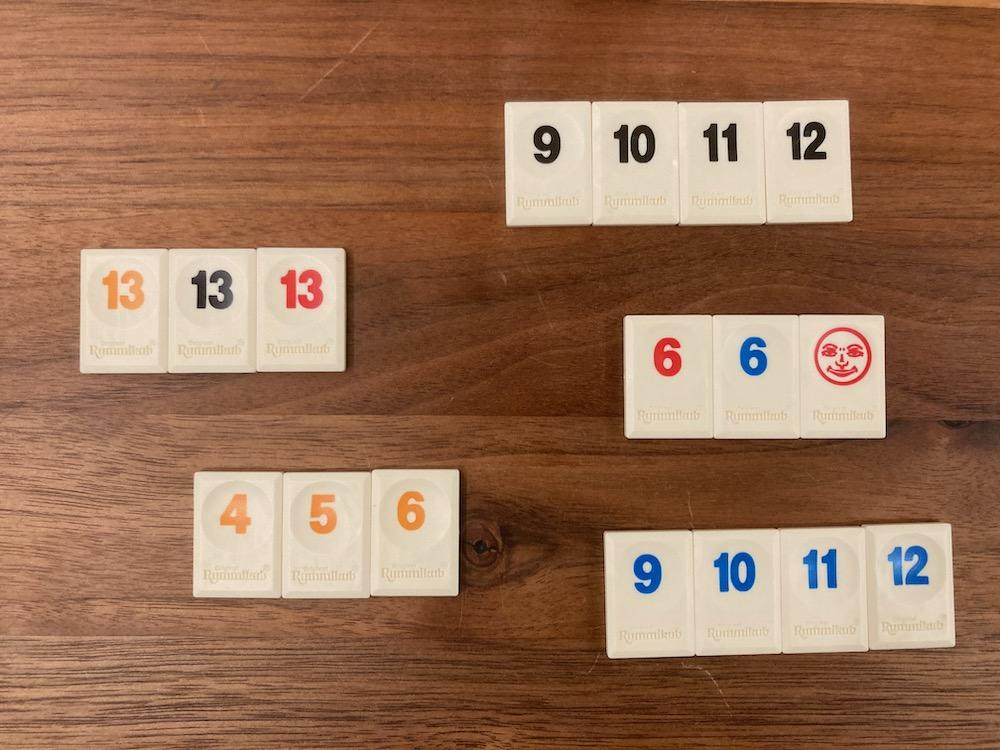black_10: (592, 102, 680, 225)
black_11: (679, 104, 765, 224)
black_12: (765, 102, 851, 221)
black_13: (168, 248, 256, 371)
black_9: (506, 103, 590, 225)
blue_10: (694, 531, 780, 656)
blue_11: (781, 529, 866, 654)
blue_12: (866, 525, 954, 650)
blue_6: (714, 316, 799, 438)
blue_9: (604, 531, 693, 656)
joker: (800, 314, 885, 438)
orange_13: (80, 251, 168, 371)
orange_4: (193, 474, 281, 598)
orange_5: (281, 476, 371, 598)
orange_6: (371, 472, 459, 596)
red_13: (256, 248, 346, 371)
red_6: (625, 316, 713, 439)
